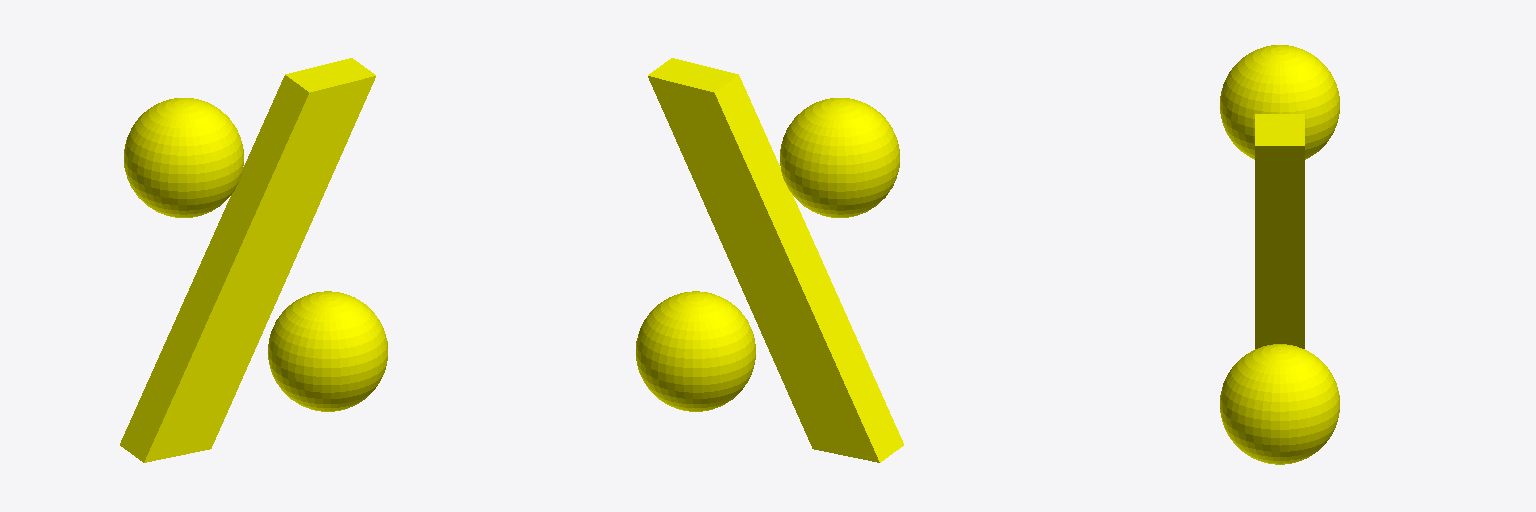
Rendered from sign26.obj.
The picture shows the model from 3 angles: view 1: azimuth 30°, elevation 25°; view 2: azimuth 150°, elevation 25°; view 3: azimuth 270°, elevation 25°; orthographic projection.
Visible parts, largest first — view 1: pCube1, pSphere1, pSphere2; view 2: pCube1, pSphere1, pSphere2; view 3: pCube1, pSphere1, pSphere2.
Part boxes in pixels (x1,y1,x2,y2): pCube1: (120, 58, 375, 462); pSphere1: (268, 291, 387, 411); pSphere2: (124, 98, 243, 217); pCube1: (648, 58, 903, 462); pSphere1: (636, 291, 755, 411); pSphere2: (780, 98, 899, 217); pCube1: (1255, 114, 1304, 348); pSphere1: (1220, 344, 1339, 464); pSphere2: (1220, 45, 1339, 159).
Bounding box in the file's own units: 2.49 × 3.26 × 1.05.